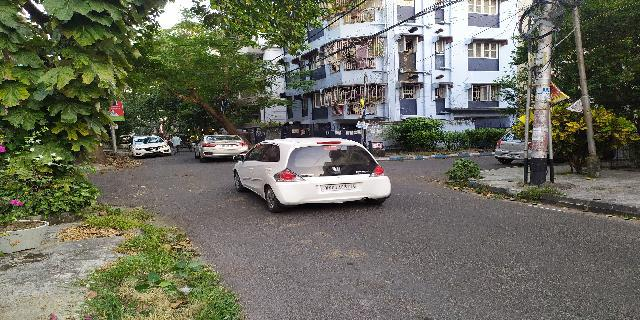Car: (227, 134, 395, 209), (194, 130, 250, 160), (125, 133, 173, 159)
